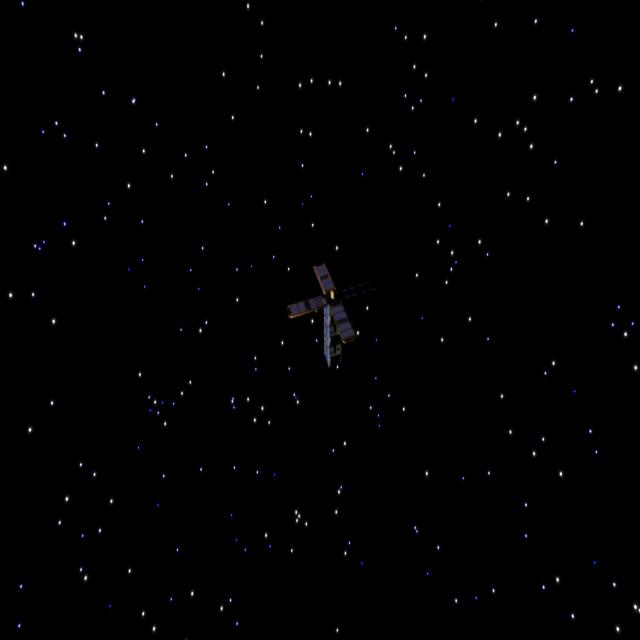medium_debris: (281, 253, 367, 371)
